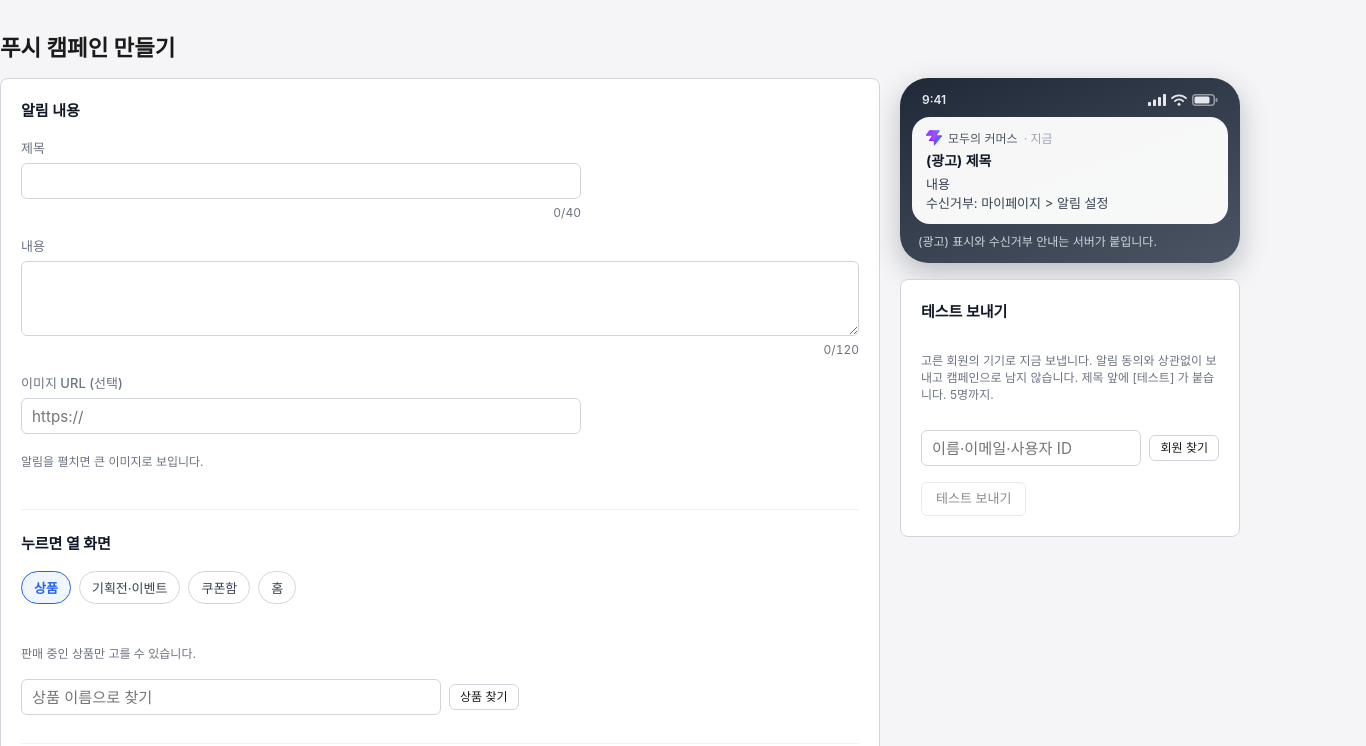
Test case: PushCampaignFormPage › shows the server message when creating fails
This screenshot has width=1366, height=746.
Type "특가" into the field labelled "제목".
click(301, 181); type("특가")  # box [21,163,581,199]
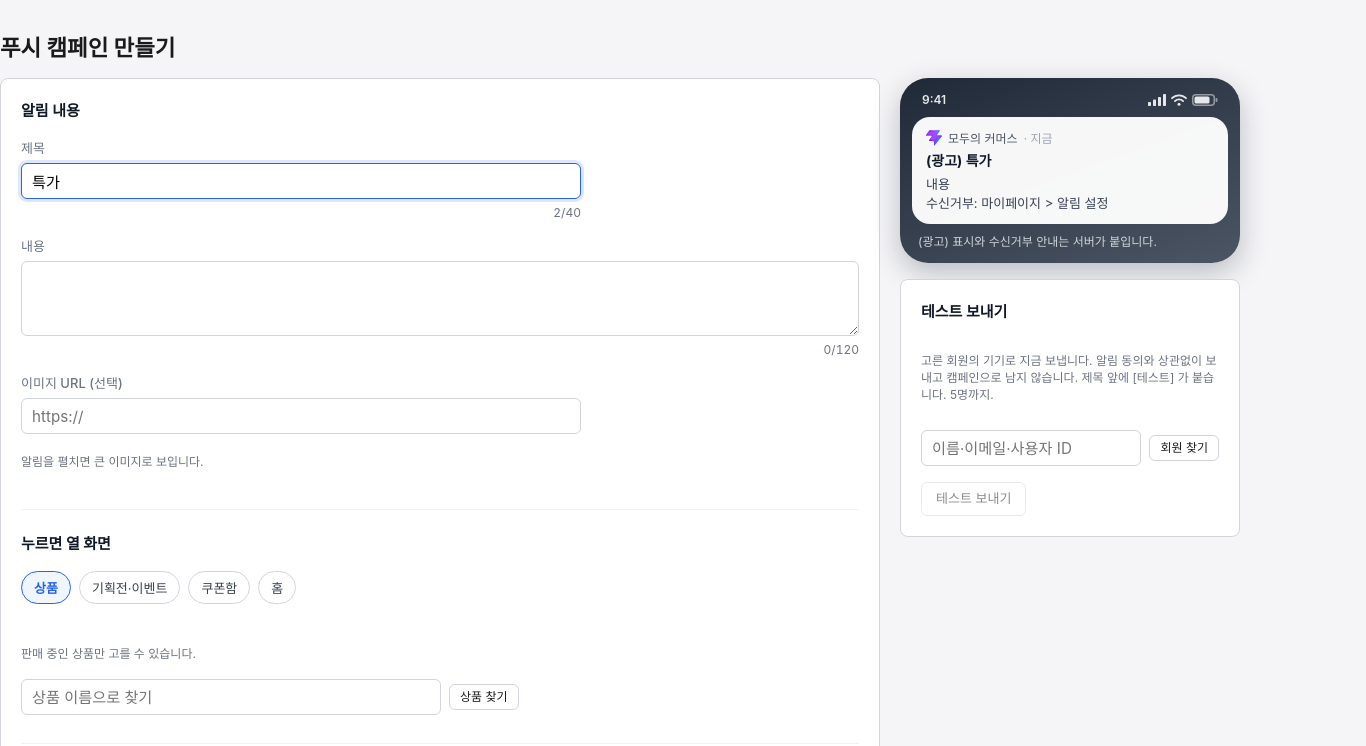
Type "보러 가기" into the text box labelled "내용".
click(440, 298); type("보러 가기")  # box [21,261,859,336]
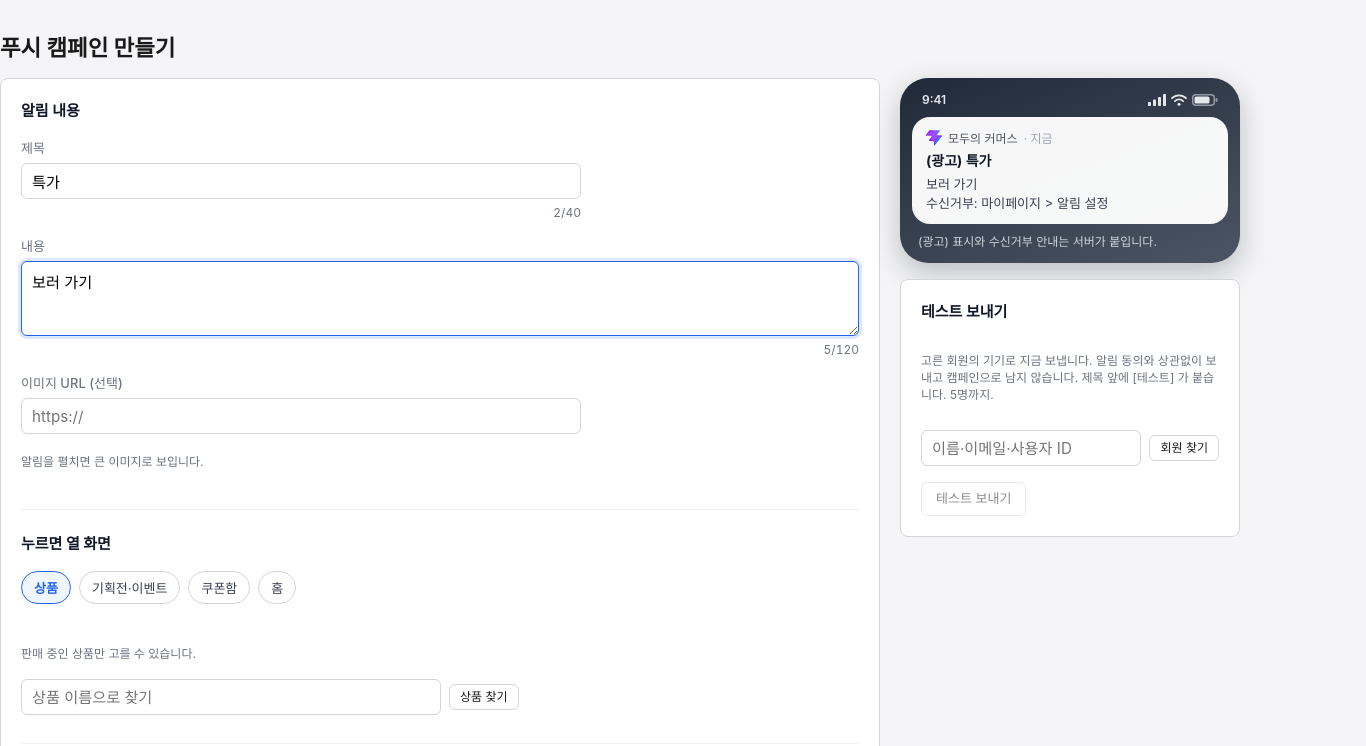
Click the button "쿠폰함".
click(219, 588)  # box [188,571,250,604]
(page scrolled)
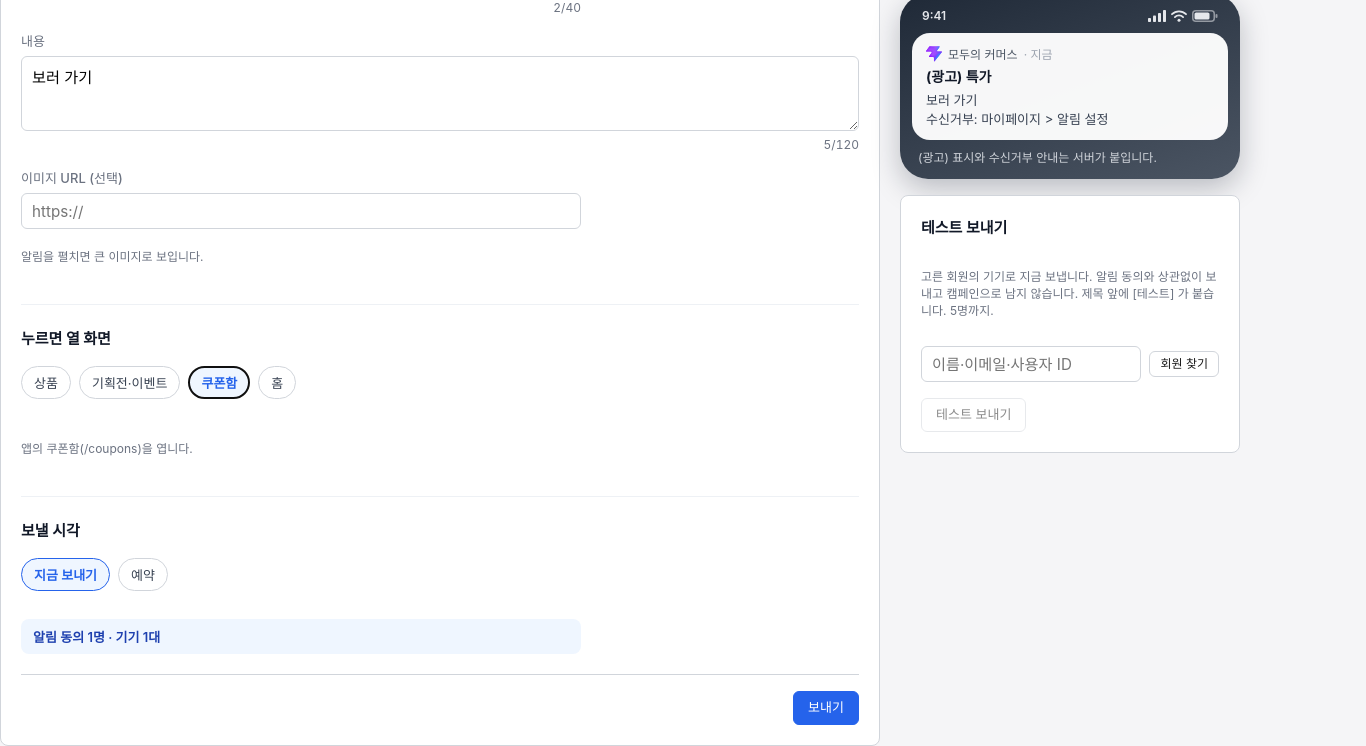
Click the button "보내기".
click(826, 708)  # box [793,691,859,725]
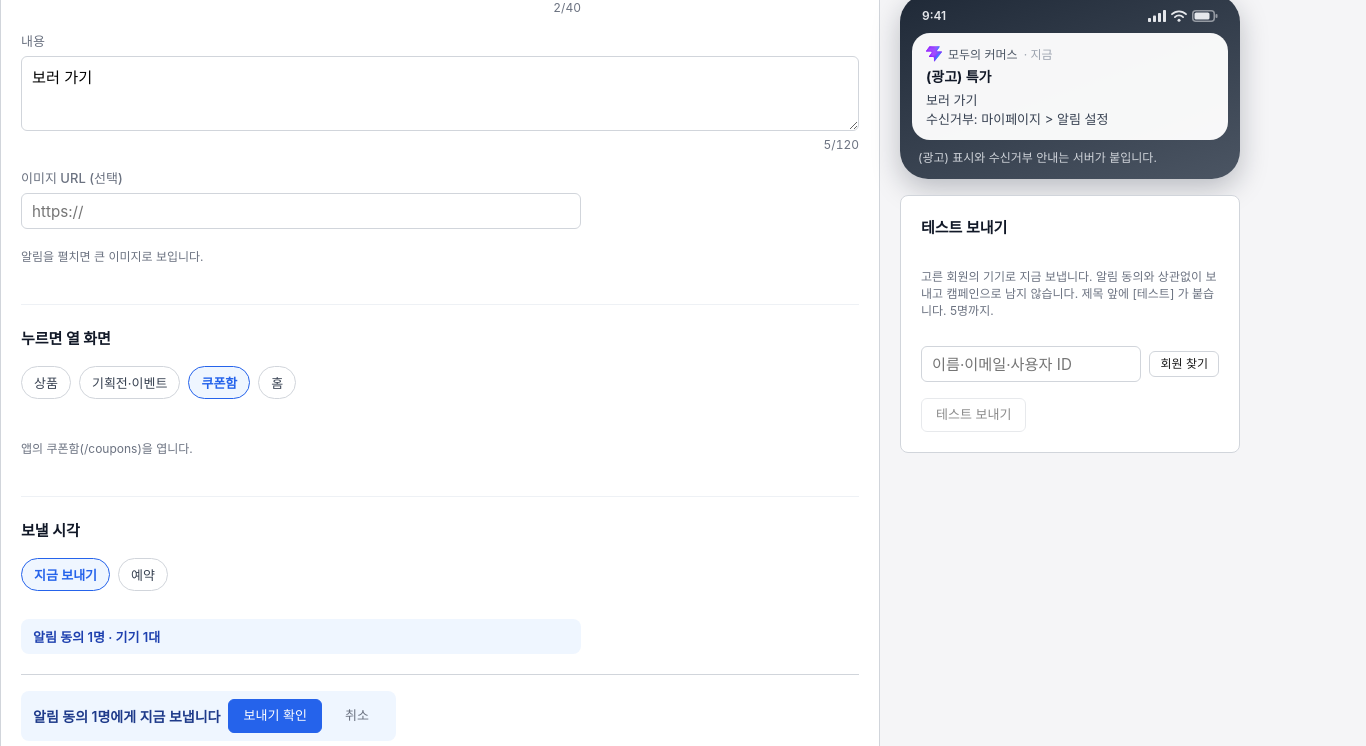
Click the button "보내기 확인".
click(275, 716)  # box [228,699,322,733]
(page scrolled)
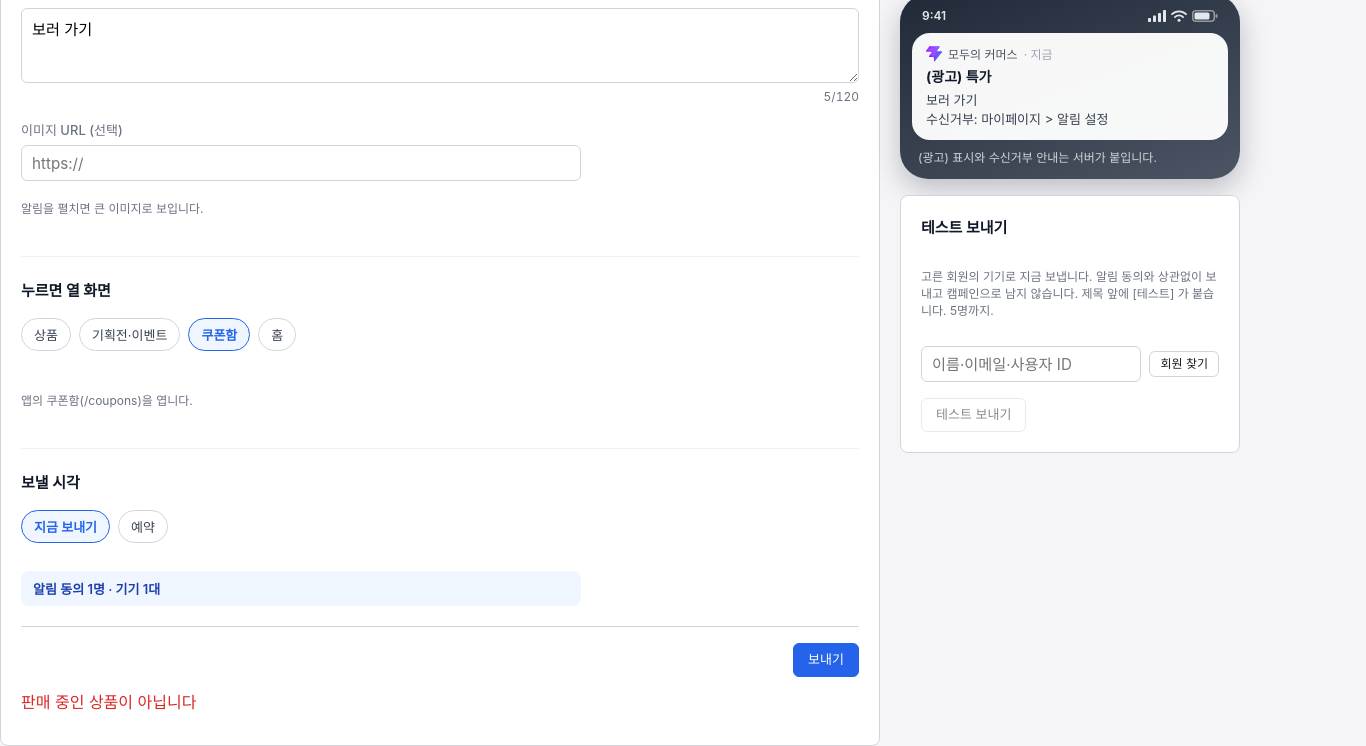
Result: the text "판매 중인 상품이 아닙니다" is shown at [21,692,196,712]
